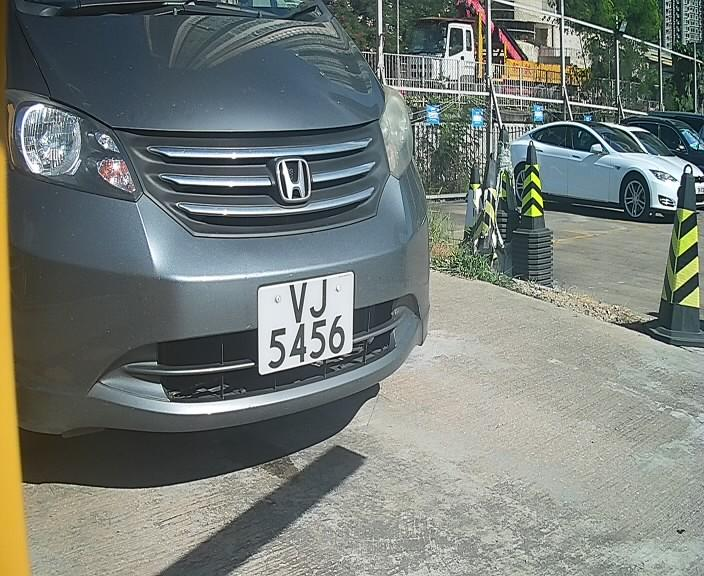License Plate: (249, 263, 362, 389)
